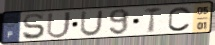9: (108, 8, 132, 37)
C: (167, 6, 193, 33)
S: (21, 12, 47, 41)
T: (143, 6, 164, 34)
U: (45, 11, 73, 40), (79, 10, 105, 38)
